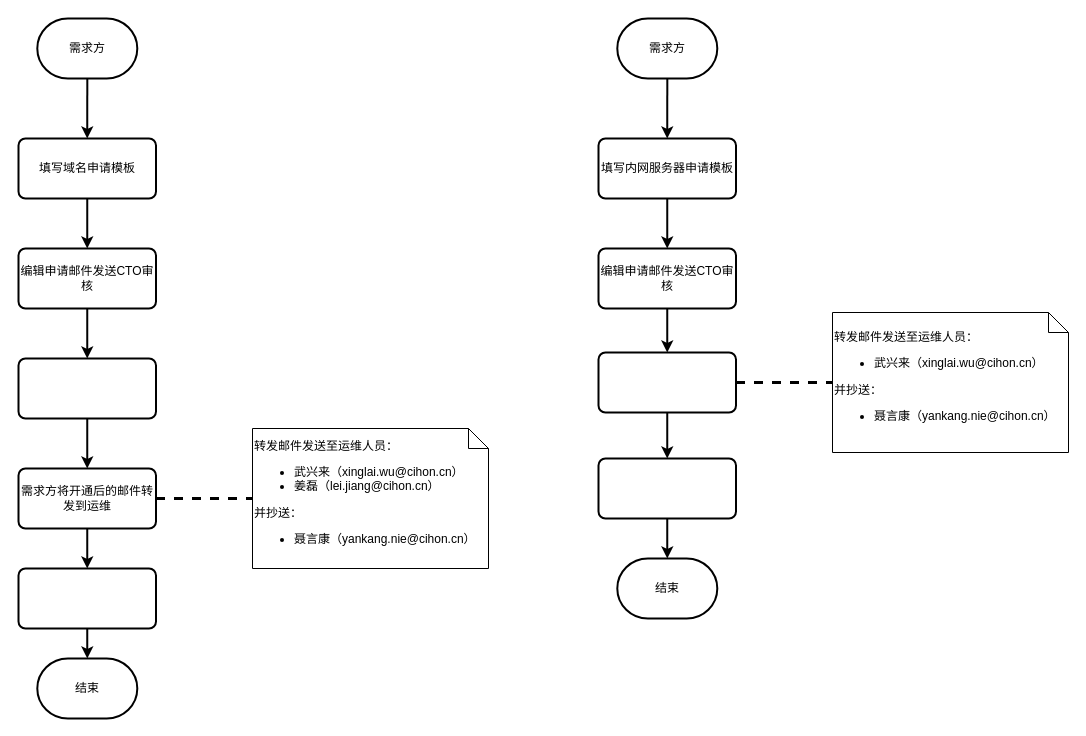
Some shapes in this 1086 by 736 pixel diagram are drawn without their labels. The box of each missing label's shape, as (x1, y1, x2, y2) in pixels:
总经理审核并开通: (17, 357, 156, 419)
运维进行后续的开通: (597, 457, 736, 519)
运维进行后续的解析和开放网络: (17, 567, 156, 629)
需求方将审核通过后的邮件转发到运维: (597, 351, 736, 413)
